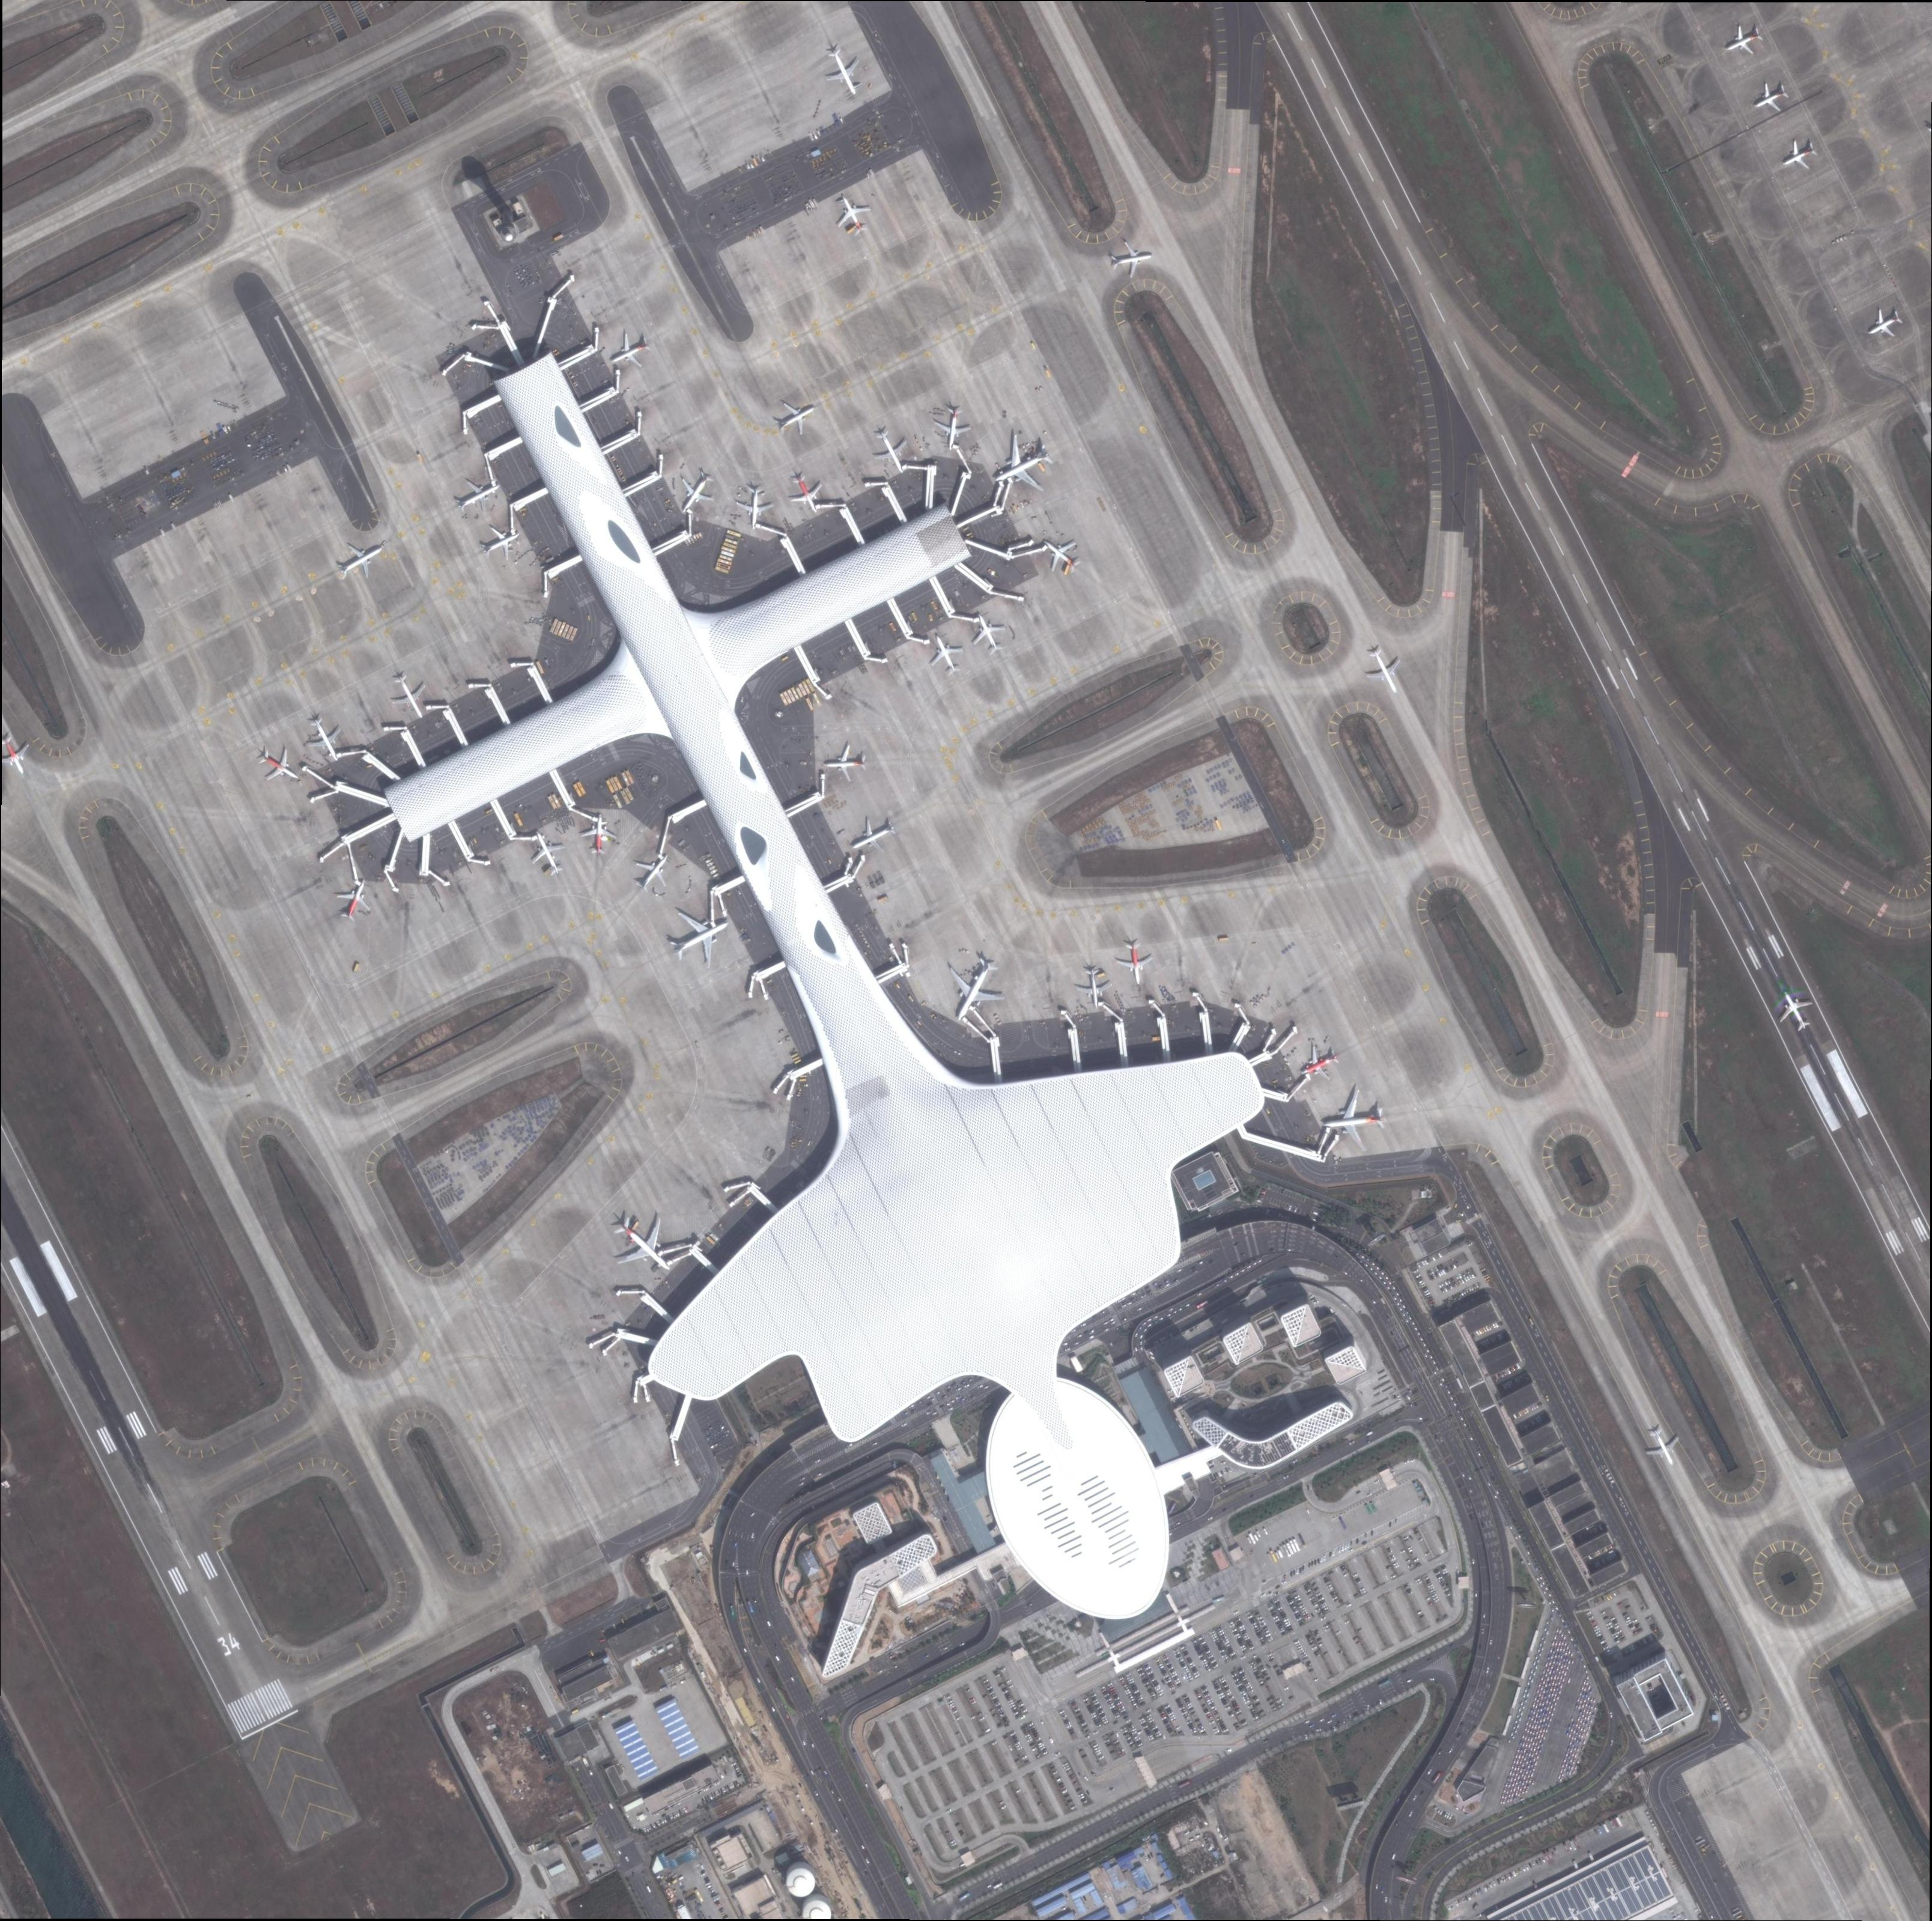plane: (931, 938, 1028, 1038), (595, 1193, 686, 1289), (662, 897, 739, 976), (984, 433, 1056, 500), (823, 186, 882, 246), (327, 535, 391, 589), (447, 468, 505, 526), (380, 661, 436, 721), (1323, 1087, 1379, 1147), (297, 709, 352, 769), (324, 876, 382, 929), (818, 42, 869, 102), (1035, 524, 1086, 582), (864, 422, 917, 473), (846, 811, 899, 862), (250, 742, 304, 792), (771, 392, 820, 445), (1360, 640, 1406, 697), (672, 466, 721, 517), (628, 848, 679, 897), (523, 830, 572, 880), (605, 327, 656, 375), (1772, 985, 1818, 1038), (1107, 237, 1154, 285), (1640, 1423, 1686, 1472), (922, 630, 968, 679), (931, 401, 975, 452), (477, 519, 523, 566), (1719, 19, 1768, 63), (966, 609, 1010, 656), (1749, 76, 1793, 121), (734, 478, 776, 526), (787, 468, 827, 517), (1779, 135, 1823, 178), (1863, 303, 1907, 345), (1295, 1043, 1341, 1084), (827, 741, 869, 783), (579, 814, 619, 857), (1112, 943, 1153, 985), (1075, 966, 1114, 1006)
